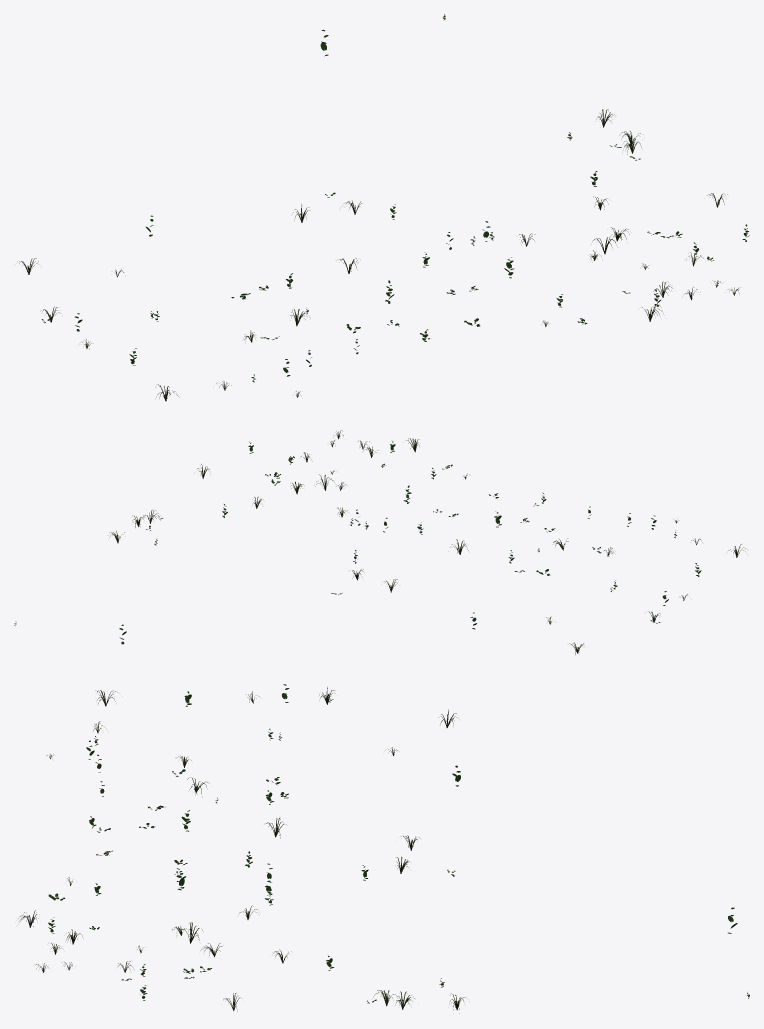
Rendered from weeds_-01+01_foliage.dae.
The picture shows the model from 3 angles, top to bottom: view 1: azimuth 30°, elevation 25°; view 2: azimuth 150°, elevation 25°; view 3: azimuth 270°, elevation 25°; orthographic projection. The views are drawn at different scales.
Visible parts, largest first — view 1: weeds_-01+01_foliage; view 2: weeds_-01+01_foliage; view 3: weeds_-01+01_foliage.
Part boxes in pixels (x1,y1,x2,y2): weeds_-01+01_foliage: (19,14,749,401); weeds_-01+01_foliage: (14,430,747,654); weeds_-01+01_foliage: (18,684,749,1013).
Size of the model in its own units: 10.22 by 10.07 by 0.5162.
